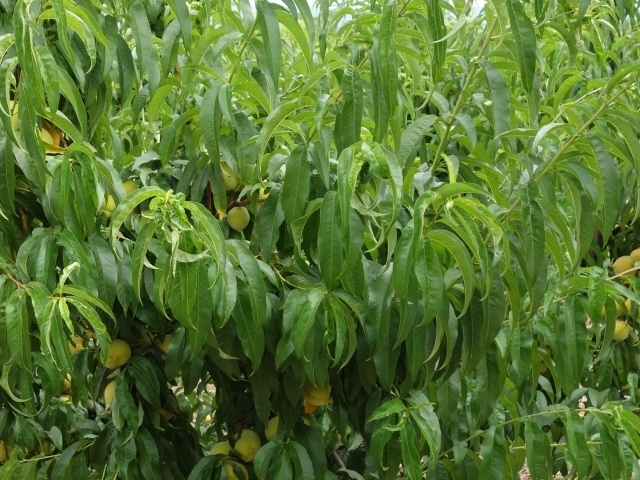peach: (98, 334, 136, 372), (302, 371, 337, 411), (227, 428, 265, 462), (225, 199, 252, 238), (205, 438, 235, 466), (216, 458, 252, 479), (613, 253, 639, 282), (261, 415, 286, 444), (607, 314, 631, 344)
